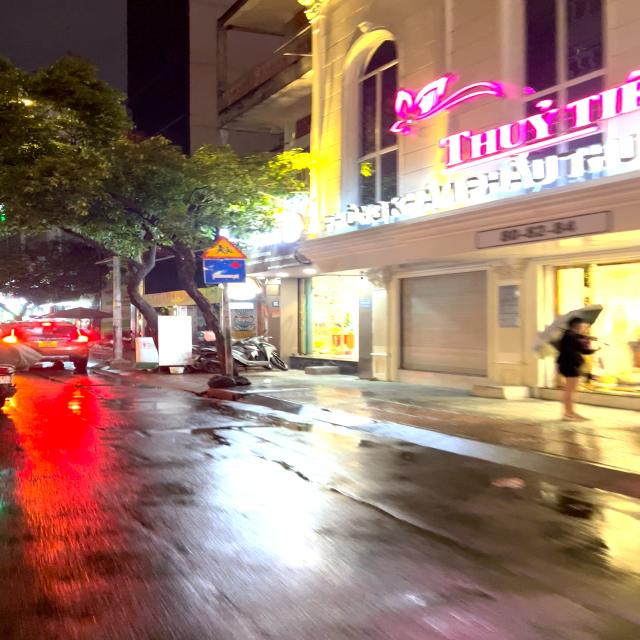bien_chi_dan: (201, 260, 247, 284)
bien_nguy_hiem: (201, 236, 245, 258)
